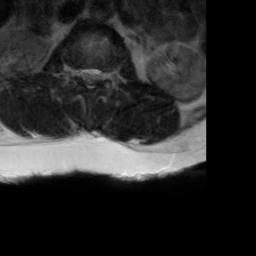CCS_normal: (87, 60, 95, 96)
LFS_normal: (103, 62, 111, 87)
LLS_normal: (95, 62, 103, 88)
RFS_normal: (71, 60, 79, 84)
RLS_normal: (79, 60, 87, 87)
